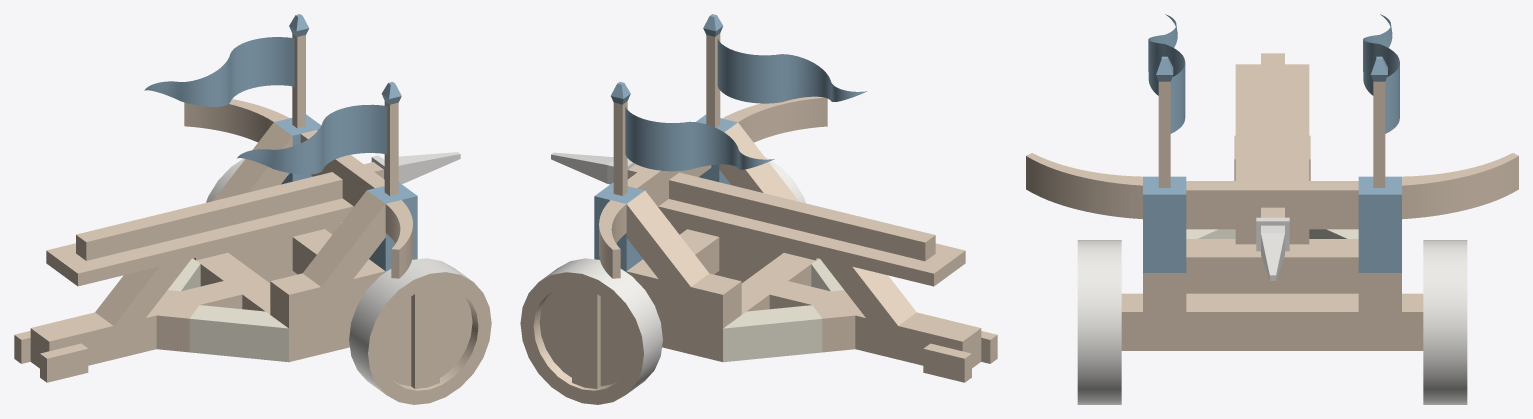
The model's file is siegeBallista.glb.
The picture shows the model from 3 angles, left to right: view 1: azimuth 30°, elevation 25°; view 2: azimuth 150°, elevation 25°; view 3: azimuth 270°, elevation 25°; orthographic projection. The views are drawn at different scales.
Visible parts, largest first — view 1: body 5, wheelFrontRight 10, arrow 2, flag 20, flag 21, wheelFrontLeft 10; view 2: body 5, wheelFrontLeft 10, arrow 2, flag 21, flag 20, wheelFrontRight 10; view 3: body 5, wheelFrontLeft 10, wheelFrontRight 10, arrow 2, flag 20, flag 21.
Part boxes in pixels (box(x1,y1,x2,y2)): body 5: box(14, 99, 417, 382); wheelFrontRight 10: box(349, 258, 491, 404); arrow 2: box(76, 152, 460, 260); flag 20: box(237, 82, 401, 195); flag 21: box(144, 14, 309, 128); wheelFrontLeft 10: box(206, 158, 341, 282); body 5: box(594, 96, 997, 382); wheelFrontLeft 10: box(520, 258, 662, 404); arrow 2: box(551, 152, 935, 261); flag 21: box(611, 82, 774, 195); flag 20: box(703, 14, 867, 127); wheelFrontRight 10: box(670, 157, 805, 282); body 5: box(1026, 64, 1518, 350); wheelFrontLeft 10: box(1423, 240, 1467, 404); wheelFrontRight 10: box(1077, 240, 1121, 404); arrow 2: box(1256, 53, 1289, 280); flag 20: box(1148, 14, 1185, 187); flag 21: box(1363, 14, 1399, 187).
Size of the model in its own units: 13.96 by 9.1 by 11.98.
